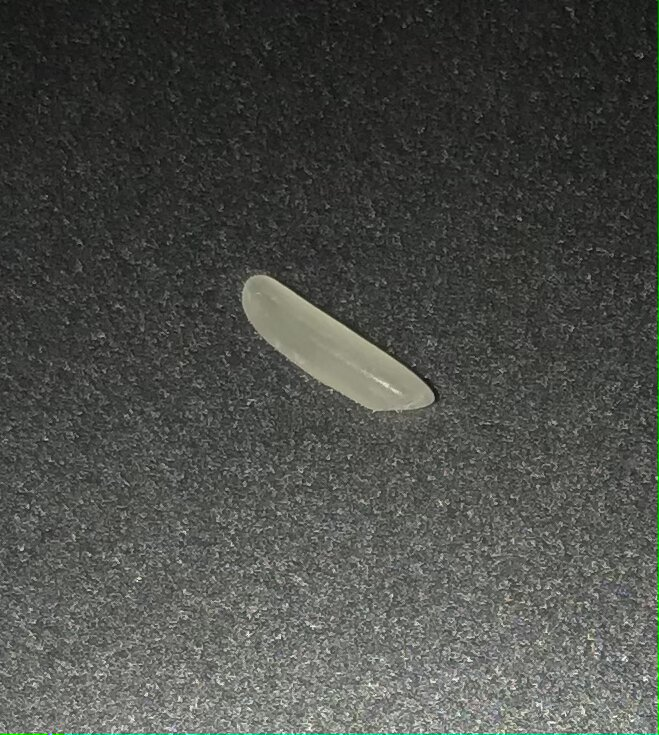Gao Long Lai: (234, 266, 440, 418)
